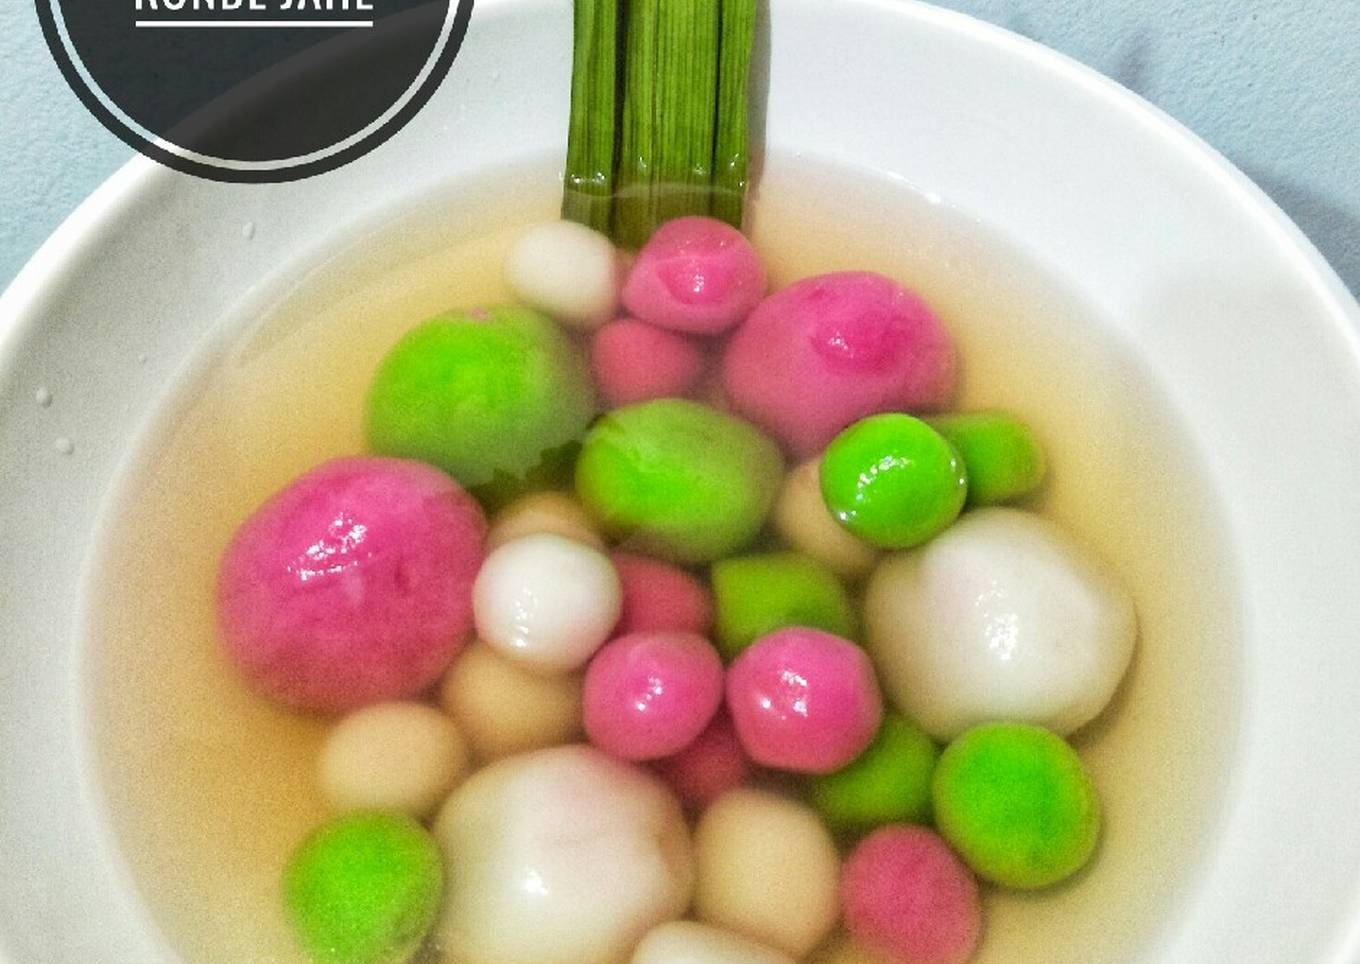ronde: (131, 174, 1218, 964)
